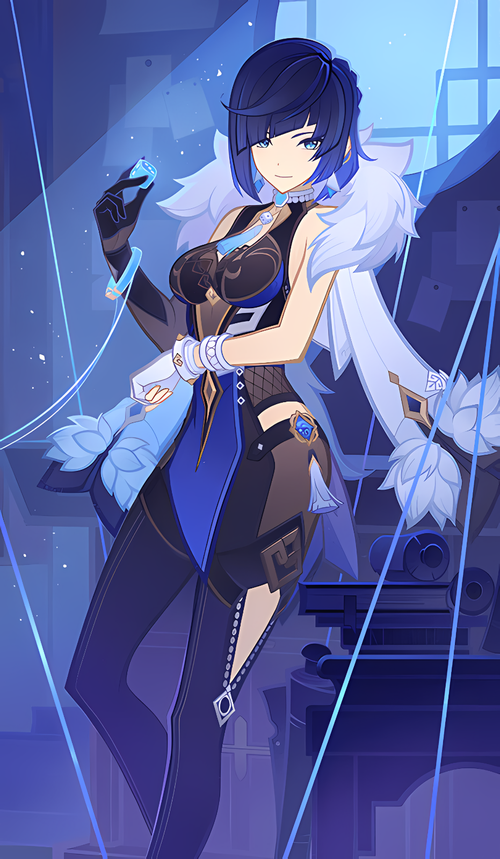夜兰: (64, 37, 372, 856)
